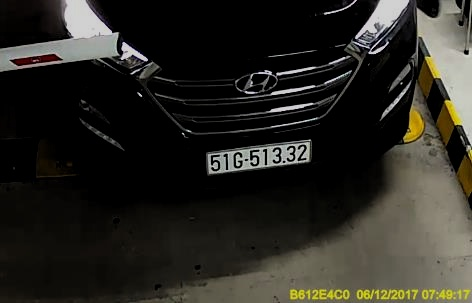plate: (202, 139, 313, 181)
